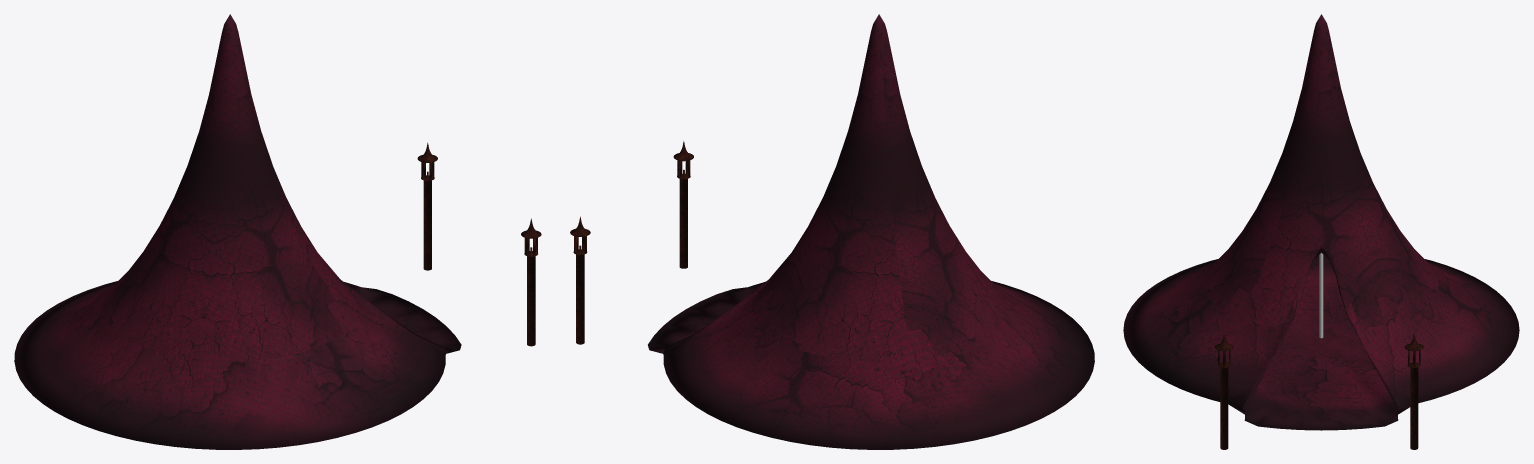
File: casa_fogo_02.fbx
3 views of the same model, side by side, from view 1: azimuth 30°, elevation 25°; view 2: azimuth 150°, elevation 25°; view 3: azimuth 270°, elevation 25° (orthographic). The views are drawn at different scales.
Visible parts, largest first — view 1: Circle, Cylinder_002; view 2: Circle, Cylinder_002; view 3: Circle, Cylinder_002, Cylinder_001.
Boxes of the visible parts, x1,y1,x2,y2 form: Circle: (14, 14, 461, 449); Cylinder_002: (417, 142, 541, 346); Circle: (648, 14, 1094, 449); Cylinder_002: (570, 141, 693, 344); Circle: (1123, 14, 1519, 430); Cylinder_002: (1215, 333, 1423, 449); Cylinder_001: (1319, 253, 1323, 338).
Size of the model in its own units: 2.15 by 1.64 by 1.81.
